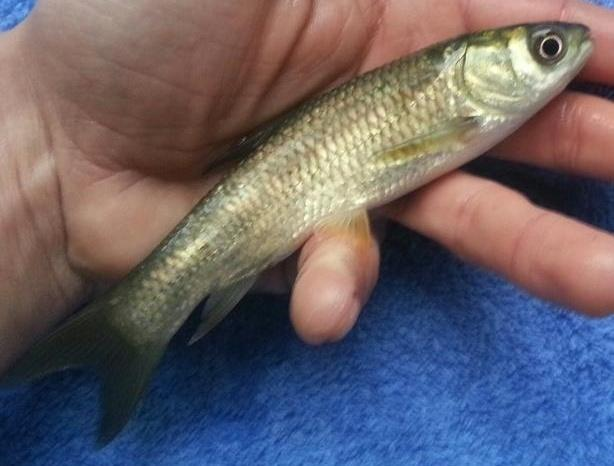Mullet: (13, 17, 595, 448)
